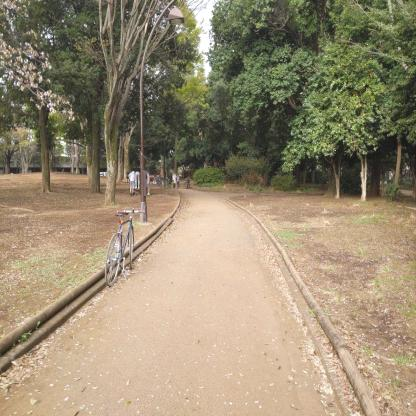Someiyoshino: (1, 0, 79, 144)
